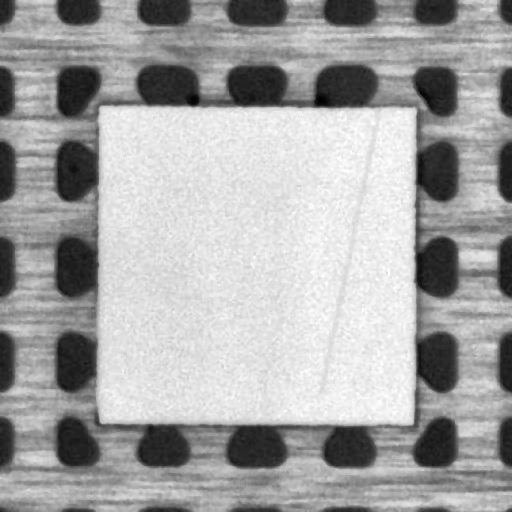DIE_CRACK: (319, 108, 377, 394)
